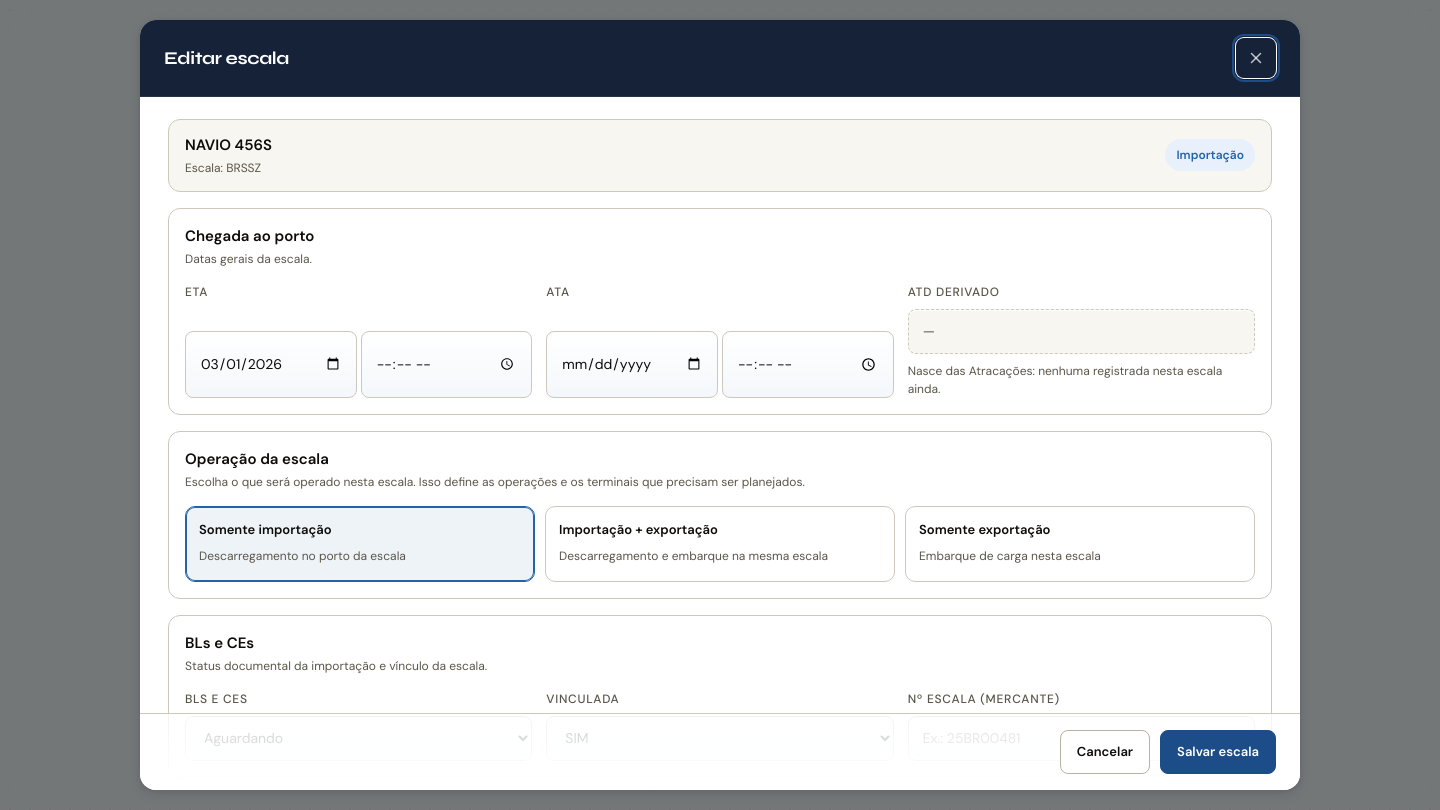
it: EscalaModal › rejeita ATA com data preenchida e hora vazia
Type "2026-03-05" into the date field labelled "ATA". click: (632, 364)
box: [546,331,718,398]
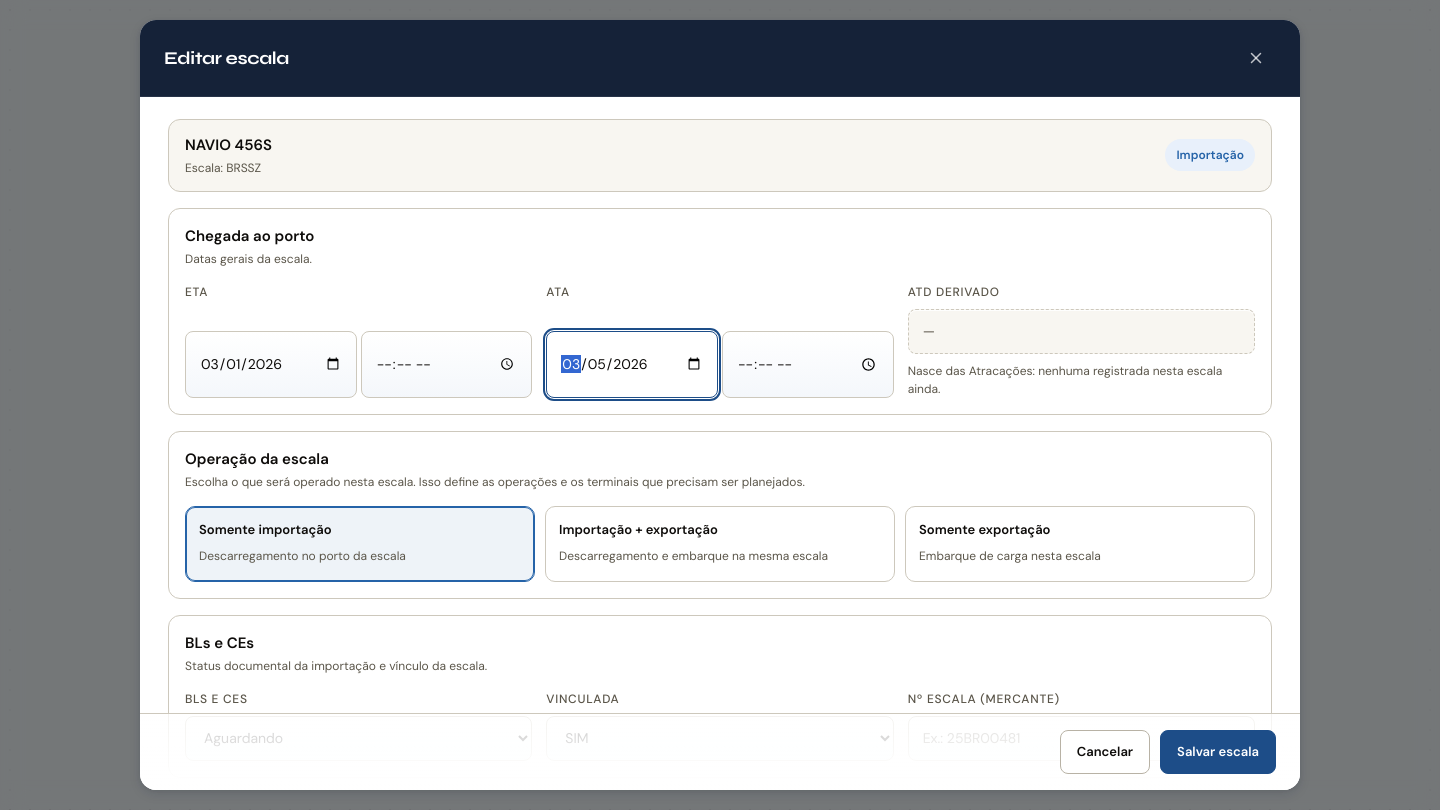
Click the button "Salvar escala". click: (1218, 752)
box: [1160,730,1276,774]
(page scrolled)
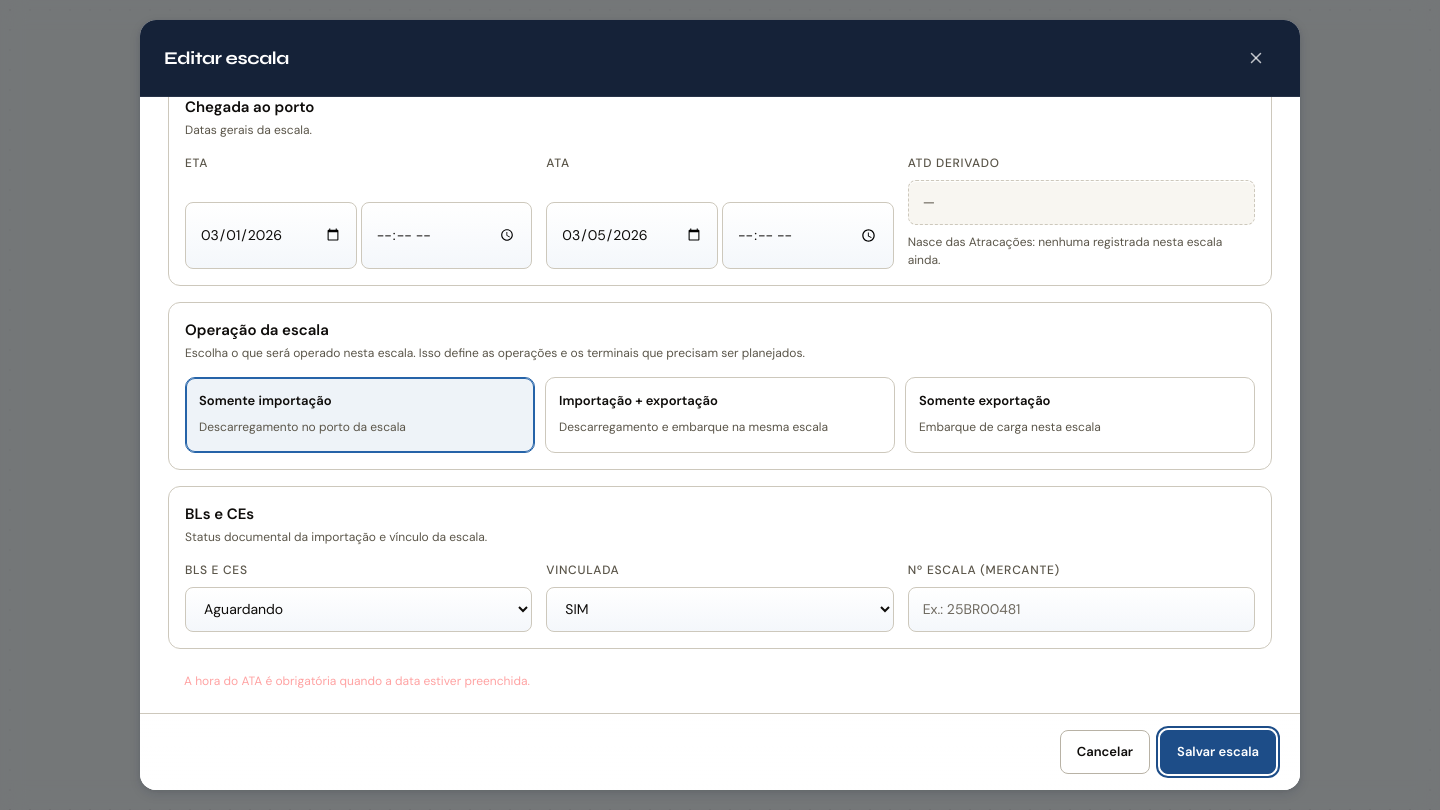
Result: the message shows "hora do ATA é obrigatória" at [184,673,530,689]
